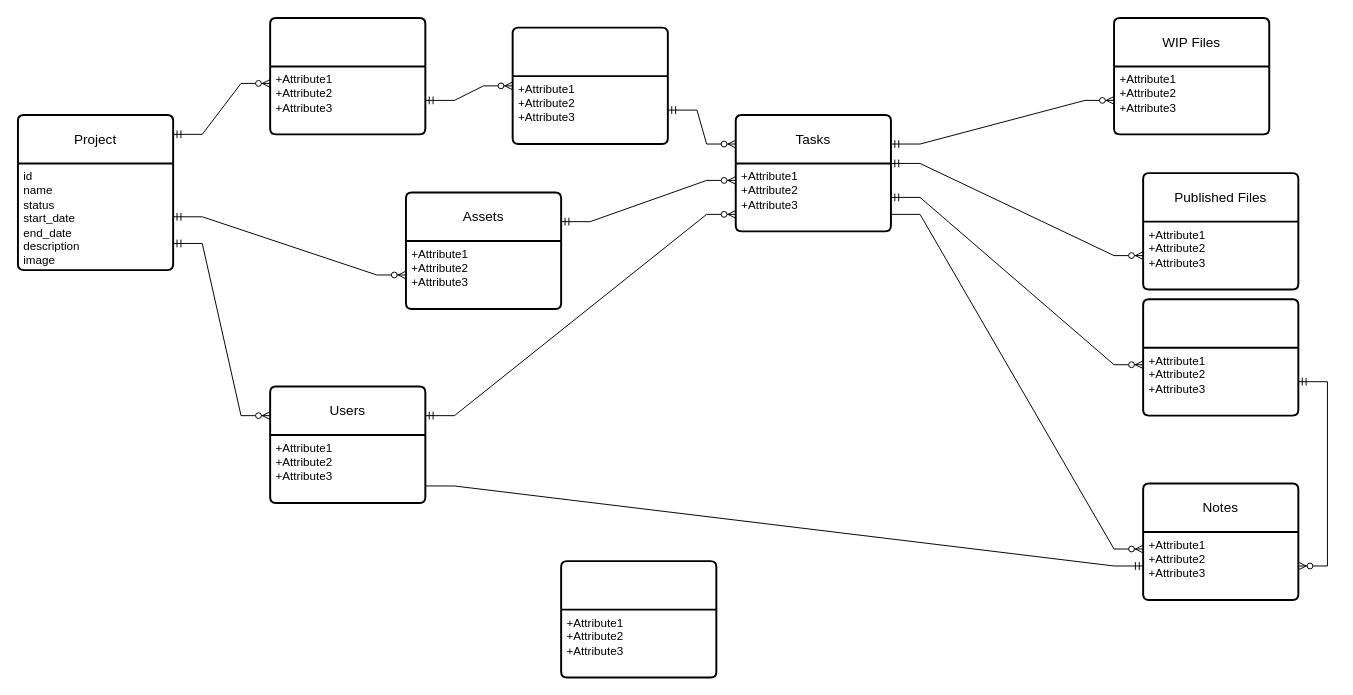
Image size: 1353x695. Some labels were removed from this diagram. Here are the shapes that lost their labels. From the top down, the box of each, then its label:
(269, 16, 426, 135): Sequences
(511, 26, 668, 145): Shots
(1142, 298, 1299, 416): Reviewables
(560, 560, 717, 678): Playlists
